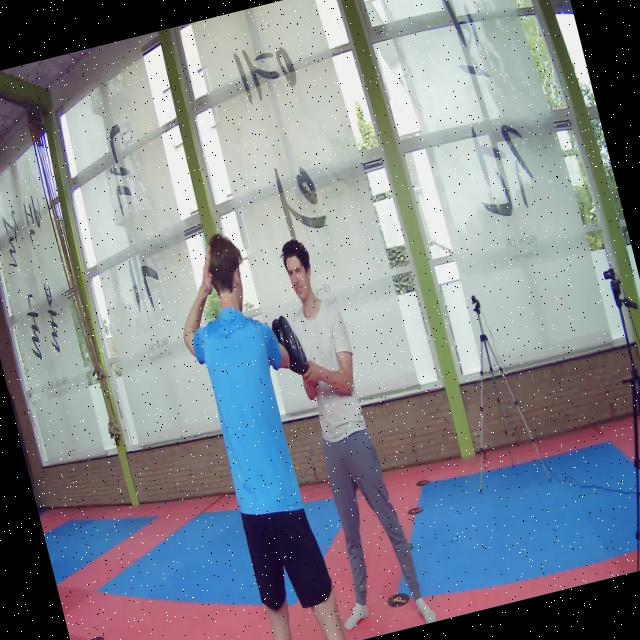paddle: (271, 315, 308, 374)
